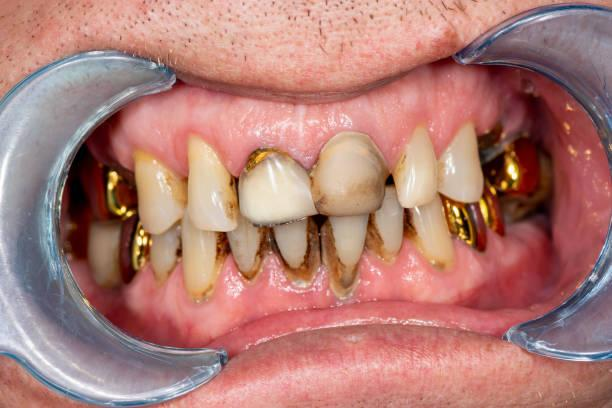Calculus: (167, 215, 235, 300), (130, 148, 191, 227), (404, 189, 458, 271), (317, 206, 368, 292), (210, 214, 273, 279), (264, 215, 322, 285), (367, 201, 414, 255)
Discoloration: (228, 138, 323, 231), (309, 135, 403, 223)
